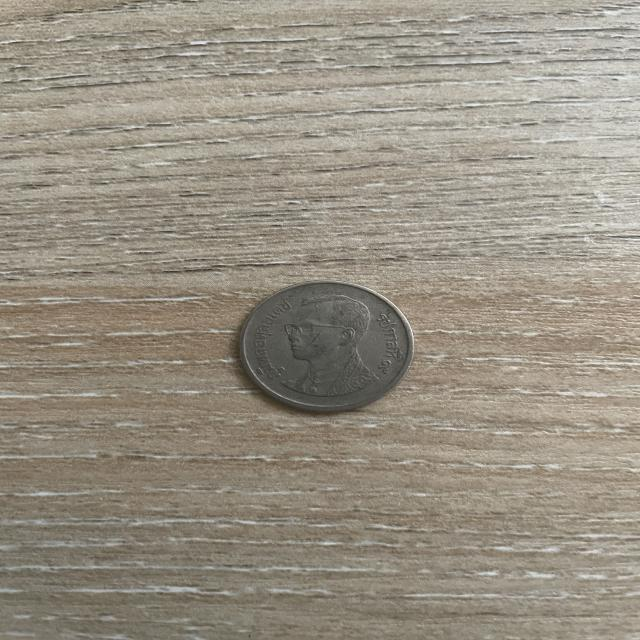1 Bath: (232, 273, 427, 423)
